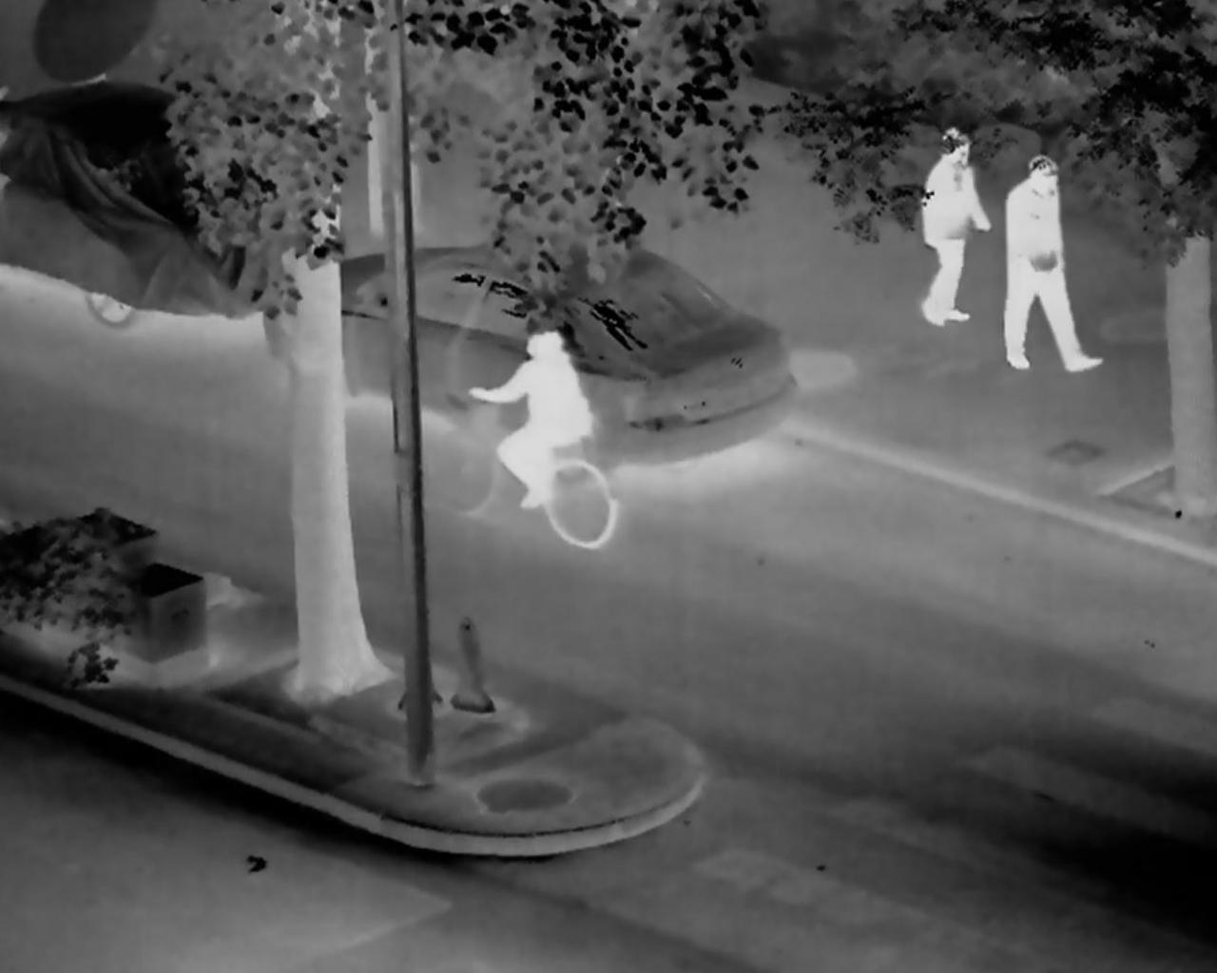person: (999, 154, 1105, 372), (470, 324, 596, 506), (918, 125, 995, 328)
